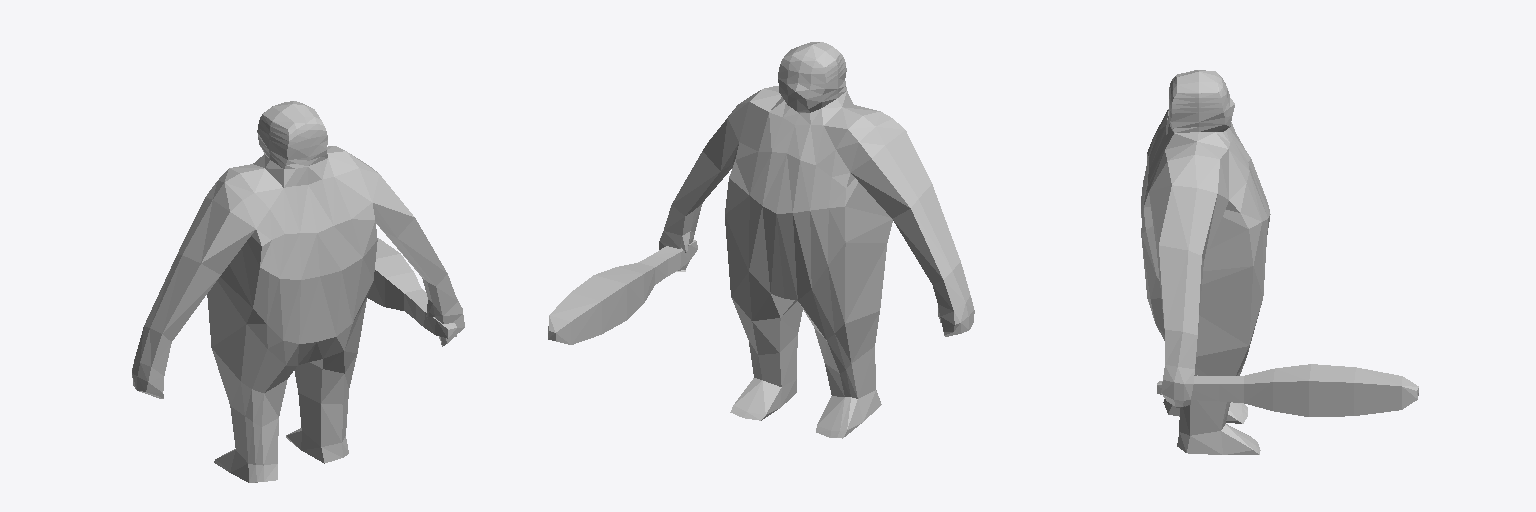
Rendered from Enemigo230.obj.
3 renders of one model, left to right at view 1: azimuth 30°, elevation 25°; view 2: azimuth 150°, elevation 25°; view 3: azimuth 270°, elevation 25°, orthographic.
Visible parts, largest first — view 1: Cube; view 2: Cube; view 3: Cube.
Boxes of the visible parts, box(x1,y1,x2,y2) form: Cube: box(132, 101, 464, 482); Cube: box(548, 42, 974, 438); Cube: box(1141, 70, 1418, 454).
Bounding box in the file's own units: 2.57 × 2.79 × 1.93.